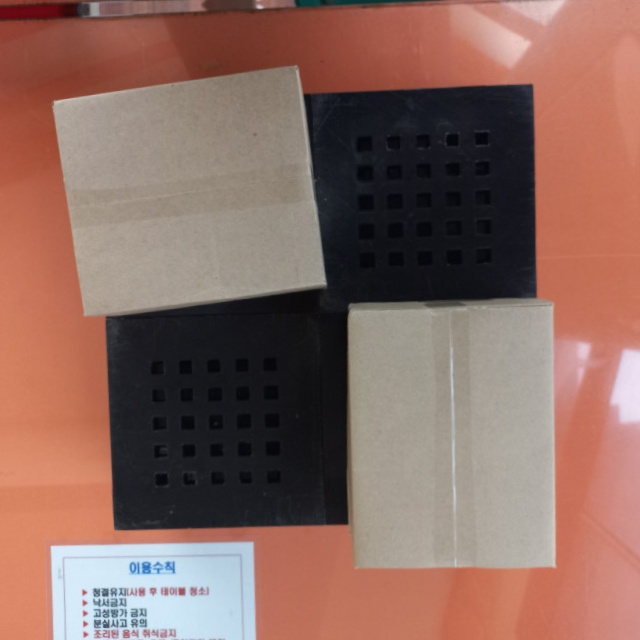box: (47, 61, 330, 320), (345, 295, 557, 571)
